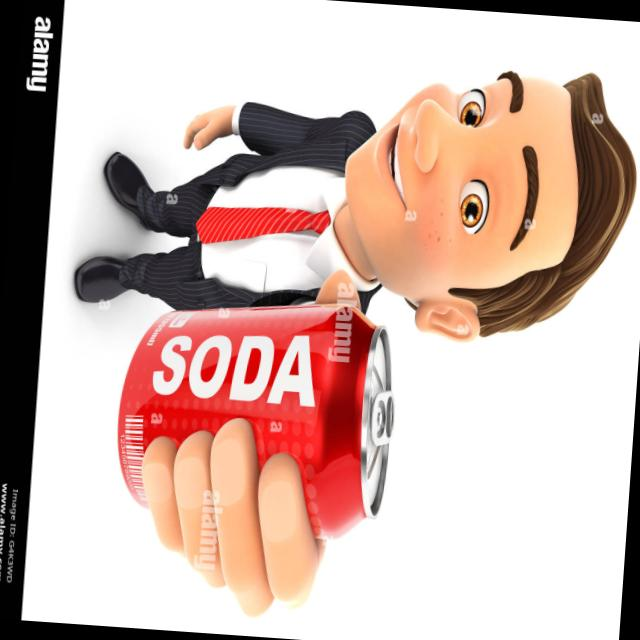soda_can: (98, 268, 392, 578)
